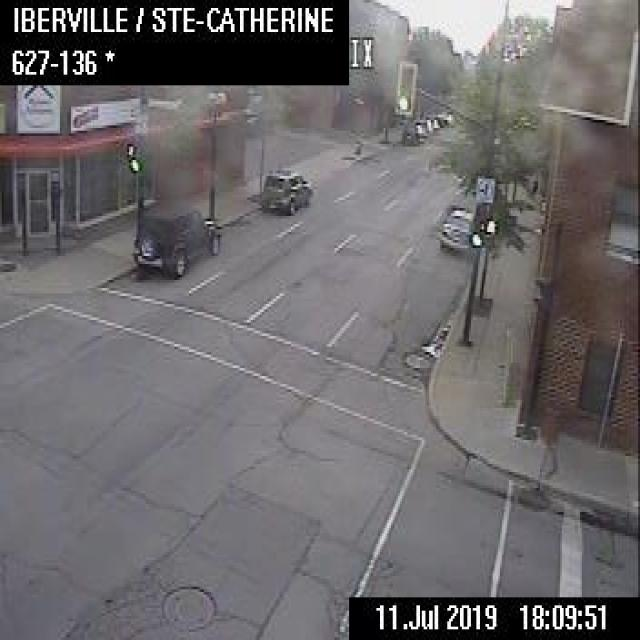vehicle: (131, 200, 220, 280), (260, 166, 312, 213), (438, 205, 471, 253), (401, 121, 422, 142), (413, 116, 431, 134)
